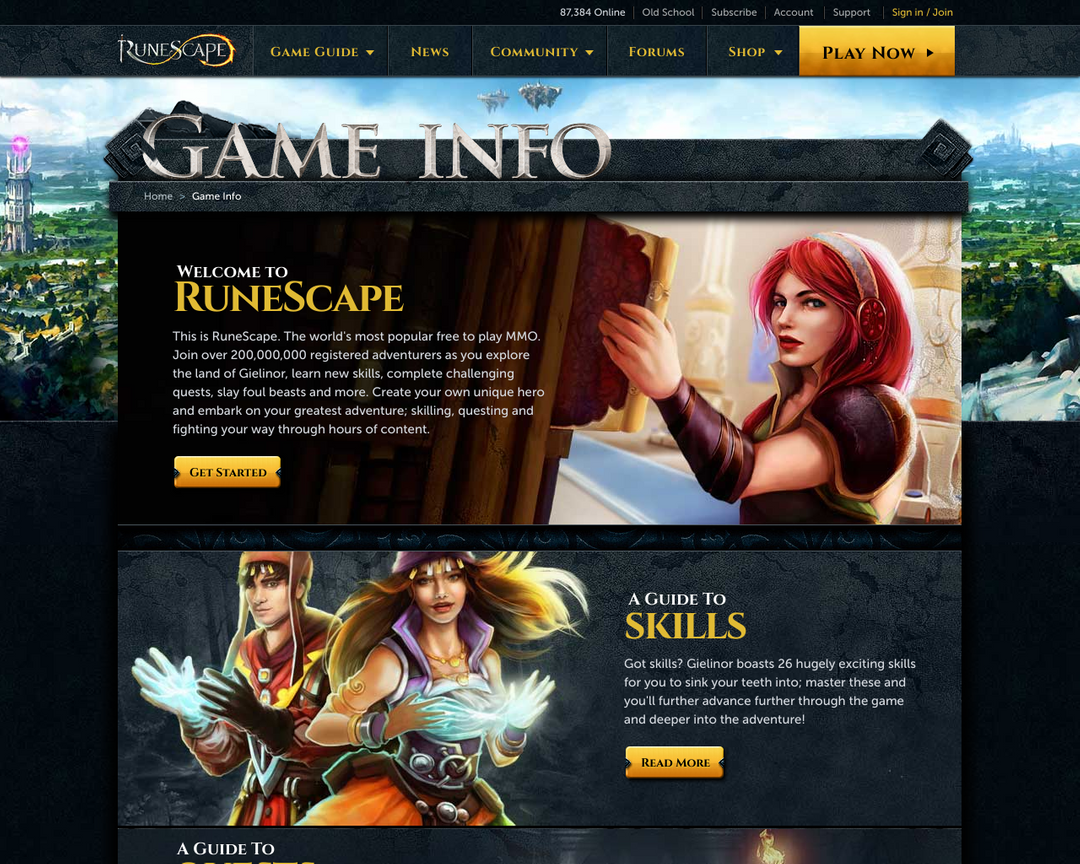Runescape: (110, 27, 240, 71)
